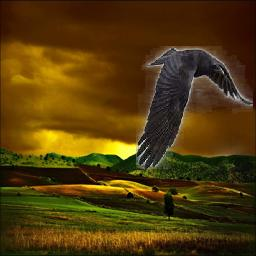Crow: (137, 47, 254, 170)
